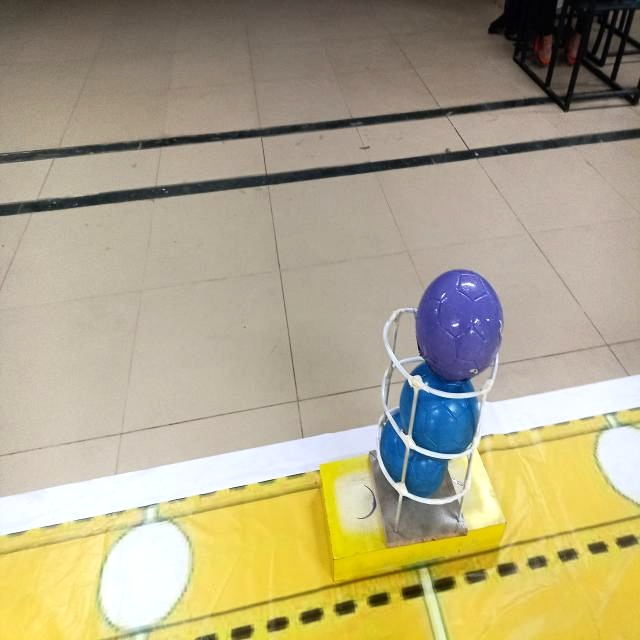blue_ball: (400, 369, 480, 447), (372, 427, 453, 498)
purple_ball: (418, 260, 506, 392)
silo: (374, 247, 503, 534)
